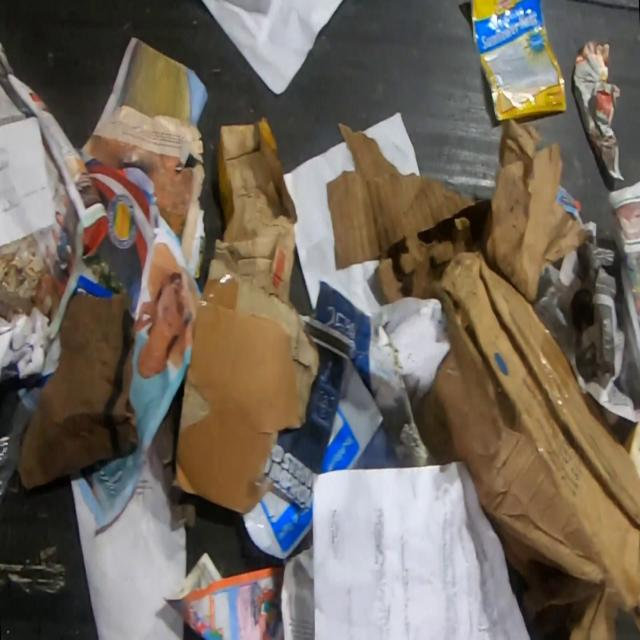cardboard: (326, 118, 640, 639), (170, 257, 320, 514)
soft_plastic: (469, 0, 567, 123)
